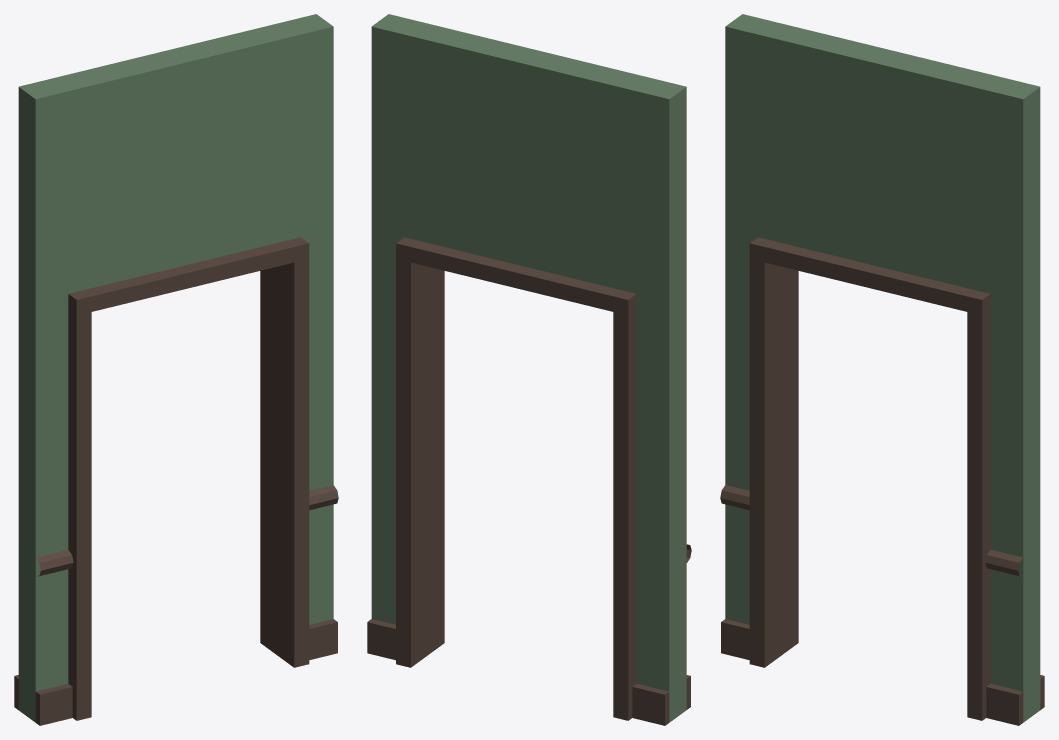
Rendered from h_wall_3_doorFrame_4.fbx.
3 views of the same model, side by side, from view 1: azimuth 30°, elevation 25°; view 2: azimuth 150°, elevation 25°; view 3: azimuth 330°, elevation 25° (orthographic).
Parts seen in each view (by area): view 1: Cube; view 2: Cube; view 3: Cube.
Part boxes in pixels (x1,y1,x2,y2): Cube: [14, 14, 338, 725]; Cube: [367, 14, 691, 725]; Cube: [720, 14, 1044, 725].
Size of the model in its own units: 200 by 400 by 39.37.
